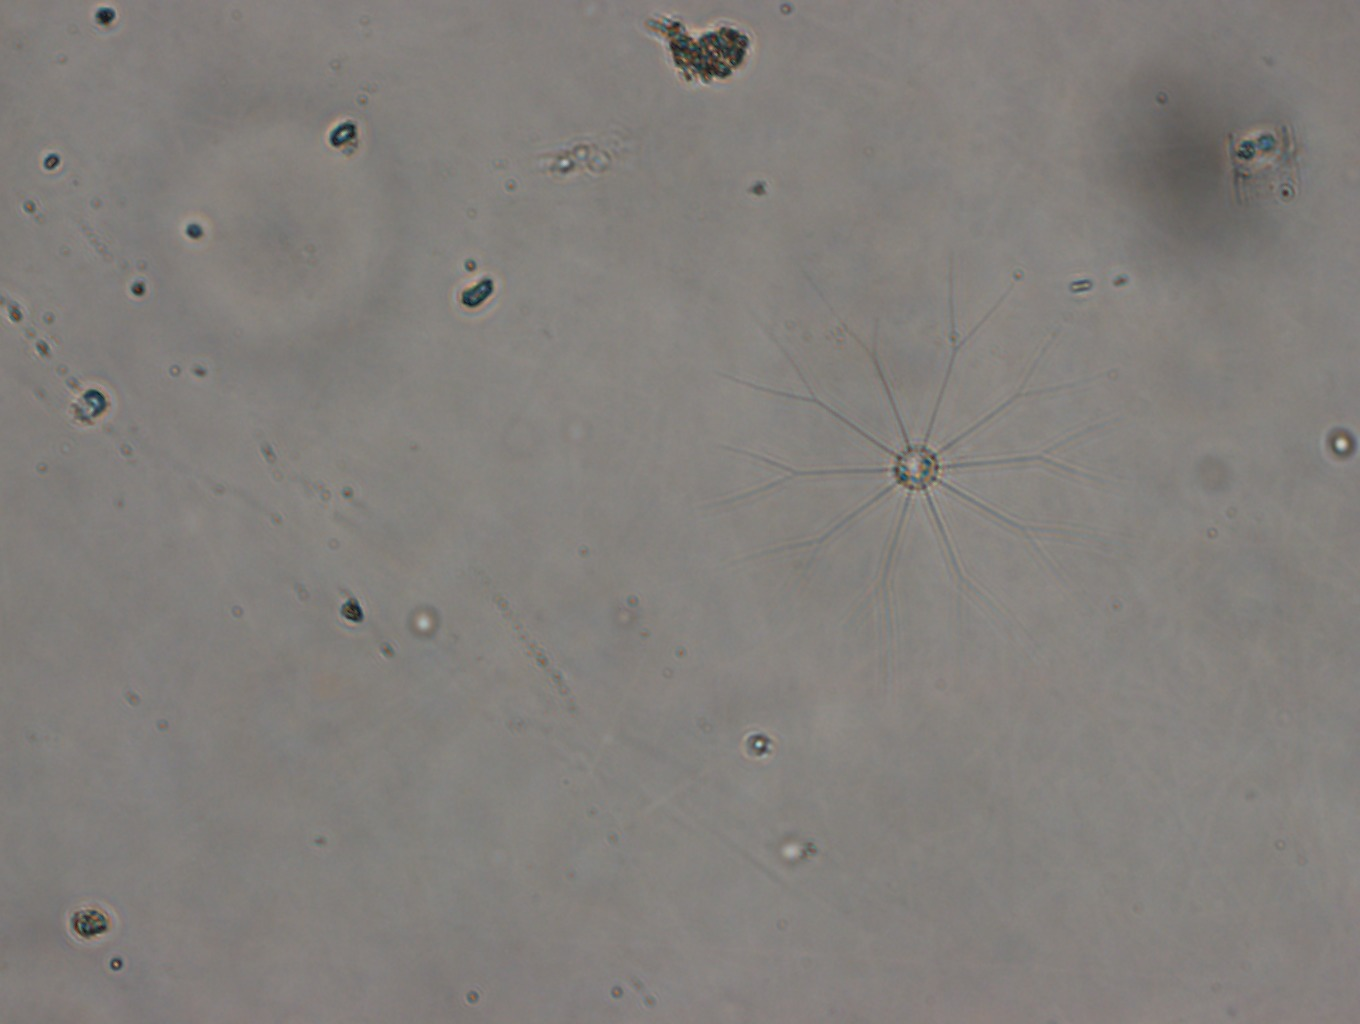bacteriastrum: (708, 244, 1139, 657)
